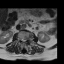CCS_stenosis: (22, 37, 24, 44)
LFS_stenosis: (26, 37, 28, 41)
LLS_normal: (24, 38, 26, 43)
RFS_normal: (19, 37, 21, 41)
RLS_stenosis: (21, 37, 22, 42)
